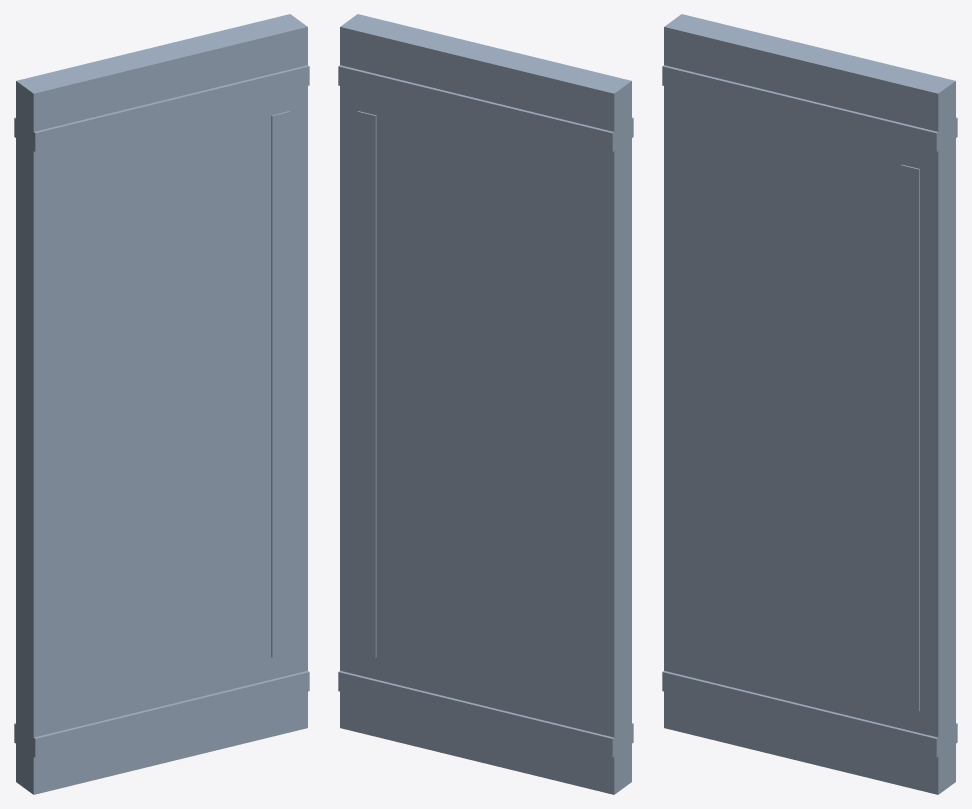
File: door.glb
3 renders of one model, left to right at view 1: azimuth 30°, elevation 25°; view 2: azimuth 150°, elevation 25°; view 3: azimuth 330°, elevation 25°, orthographic.
Parts seen in each view (by area): view 1: door_panel_int_door; view 2: door_panel_int_door; view 3: door_panel_int_door.
Part boxes in pixels (<box>): door_panel_int_door: <box>14,14,309,794</box>; door_panel_int_door: <box>338,14,633,794</box>; door_panel_int_door: <box>662,14,957,794</box>.
Bounding box in the file's own units: 0.9 × 2.2 × 0.12.
